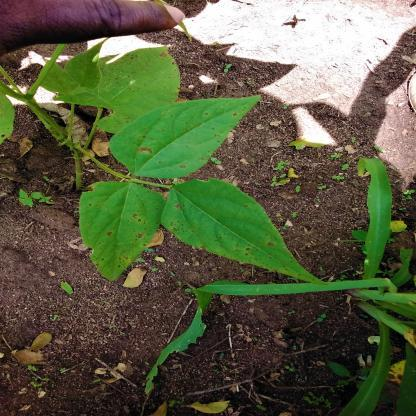Beans_Angular_LeafSpot: (105, 94, 254, 180), (169, 185, 302, 274), (74, 181, 166, 283)
